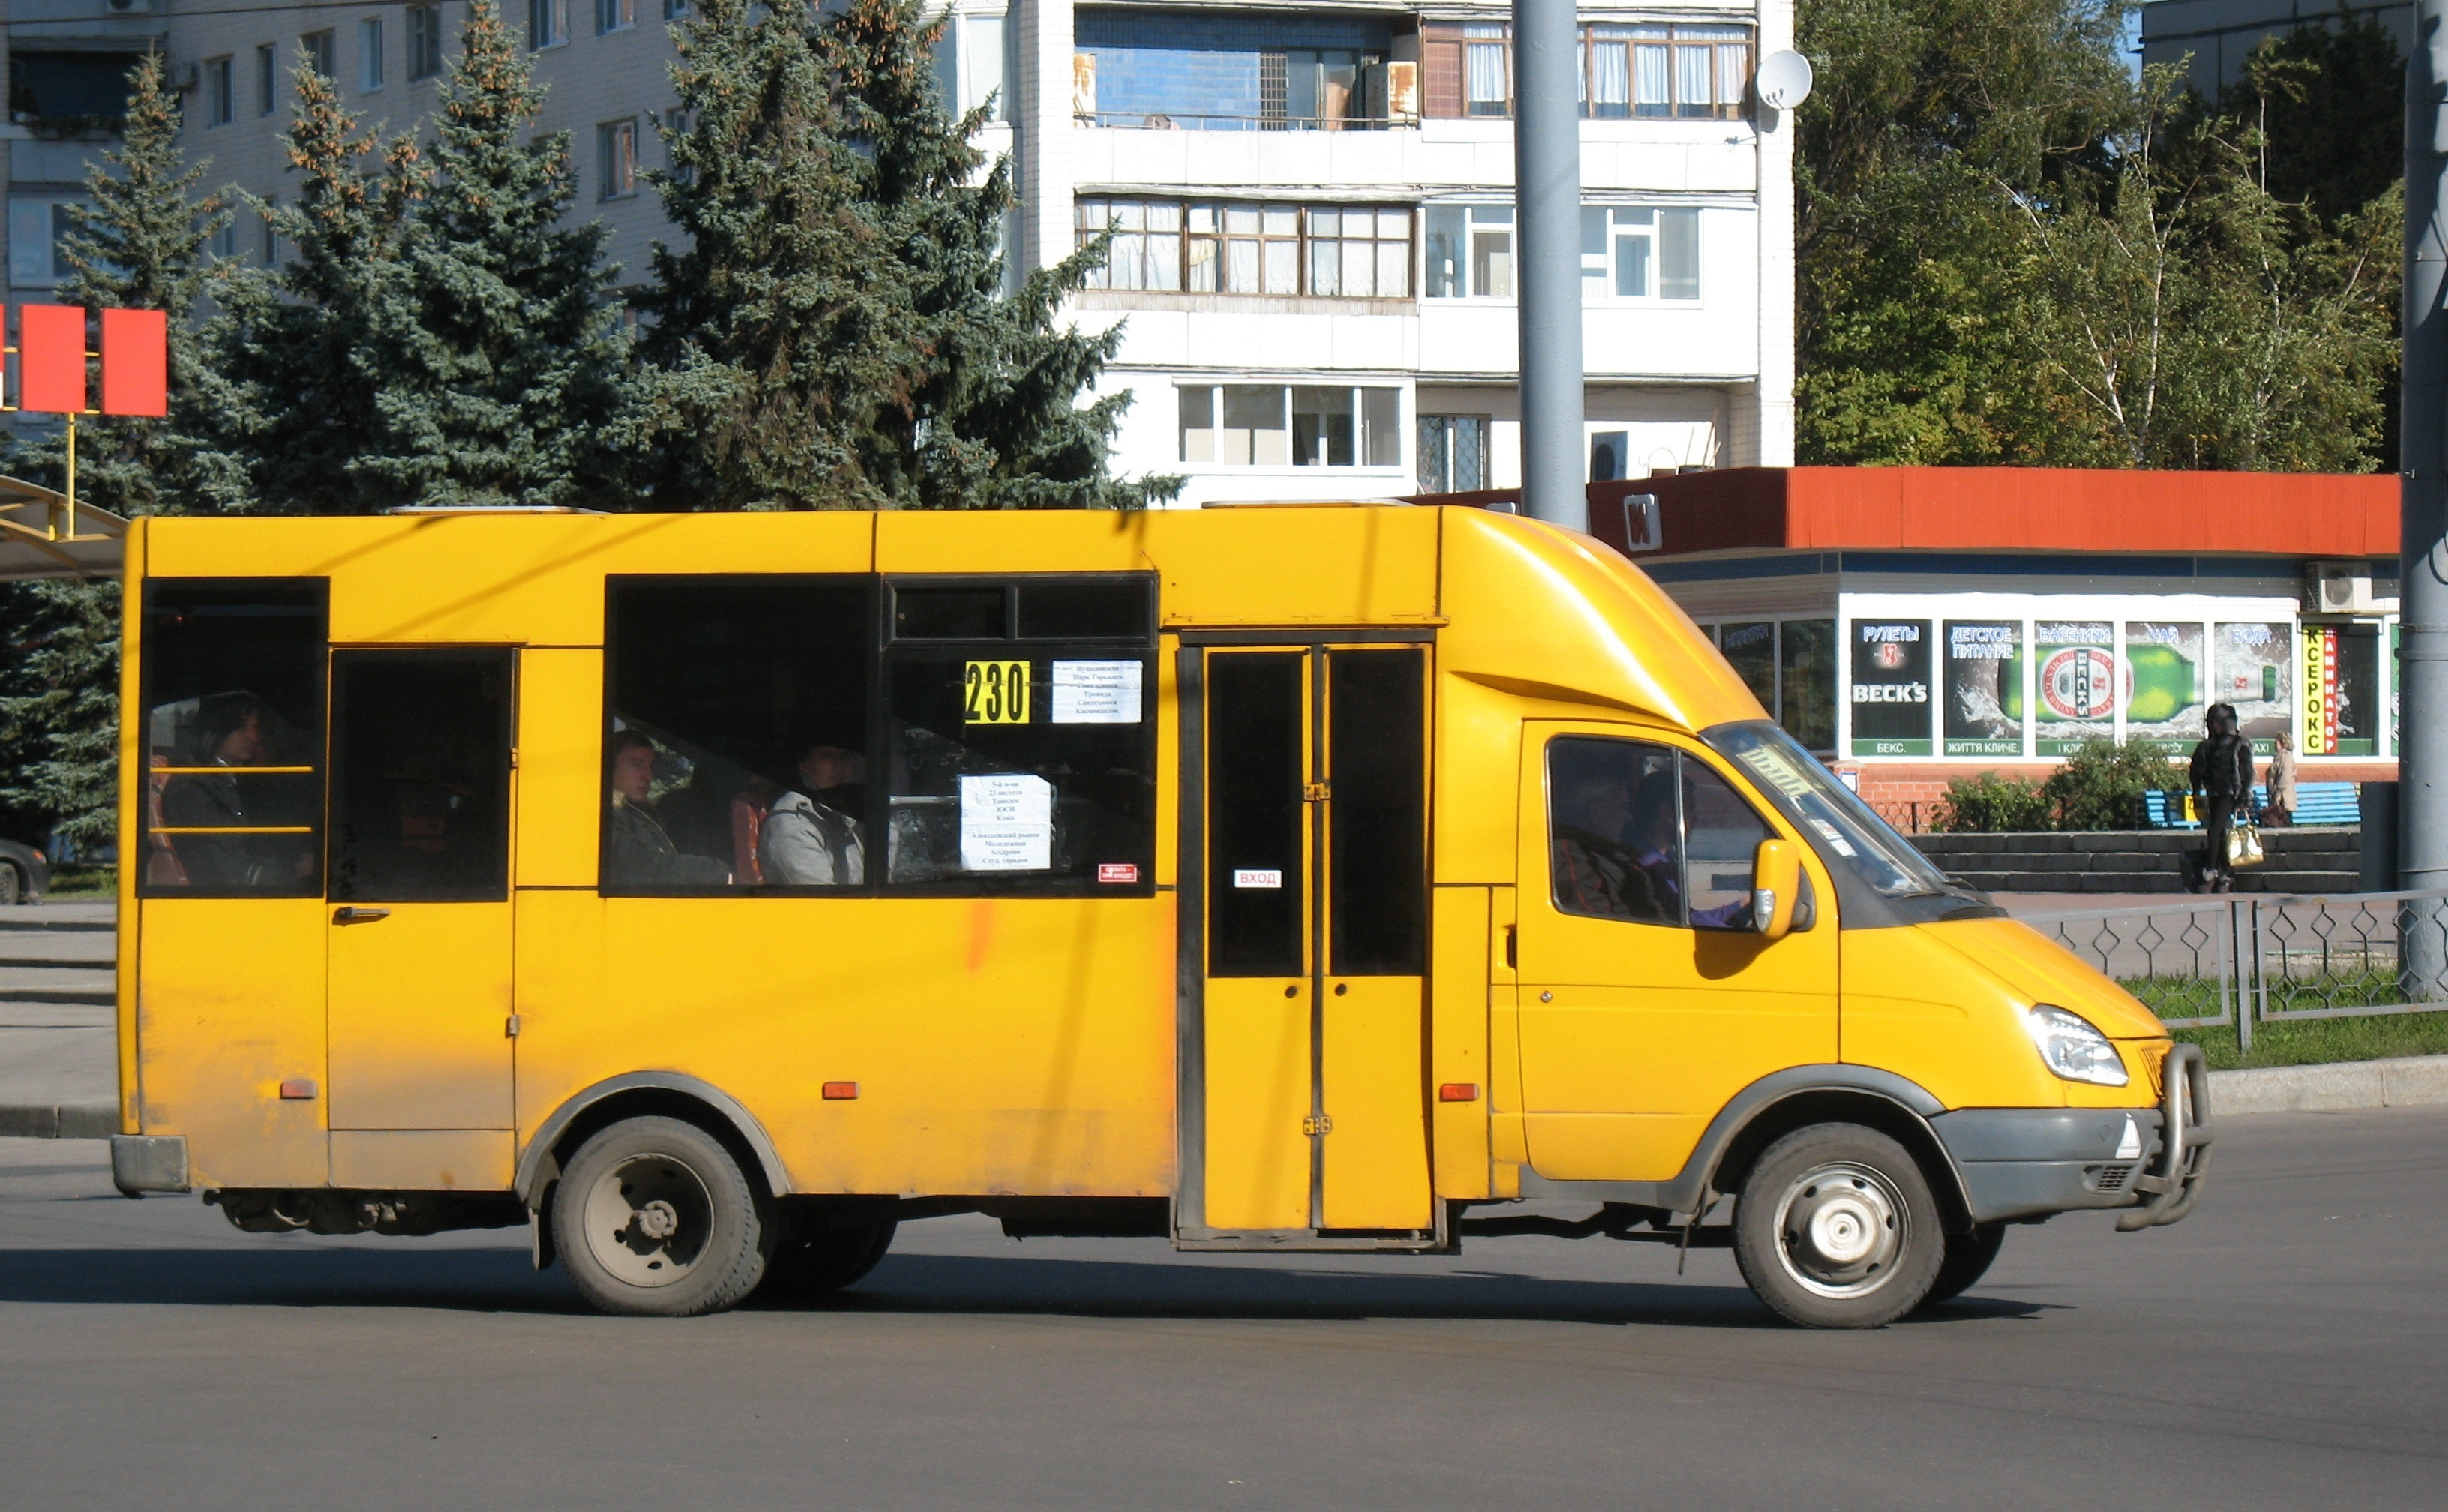van: (114, 507, 2203, 1349)
